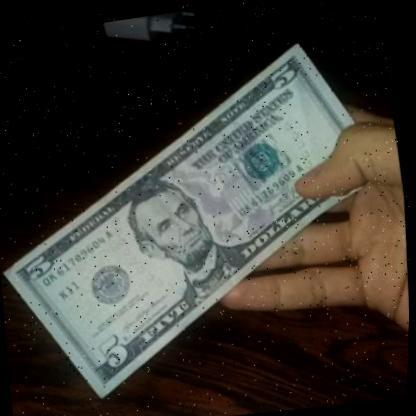dollar_front: (0, 12, 416, 416)
